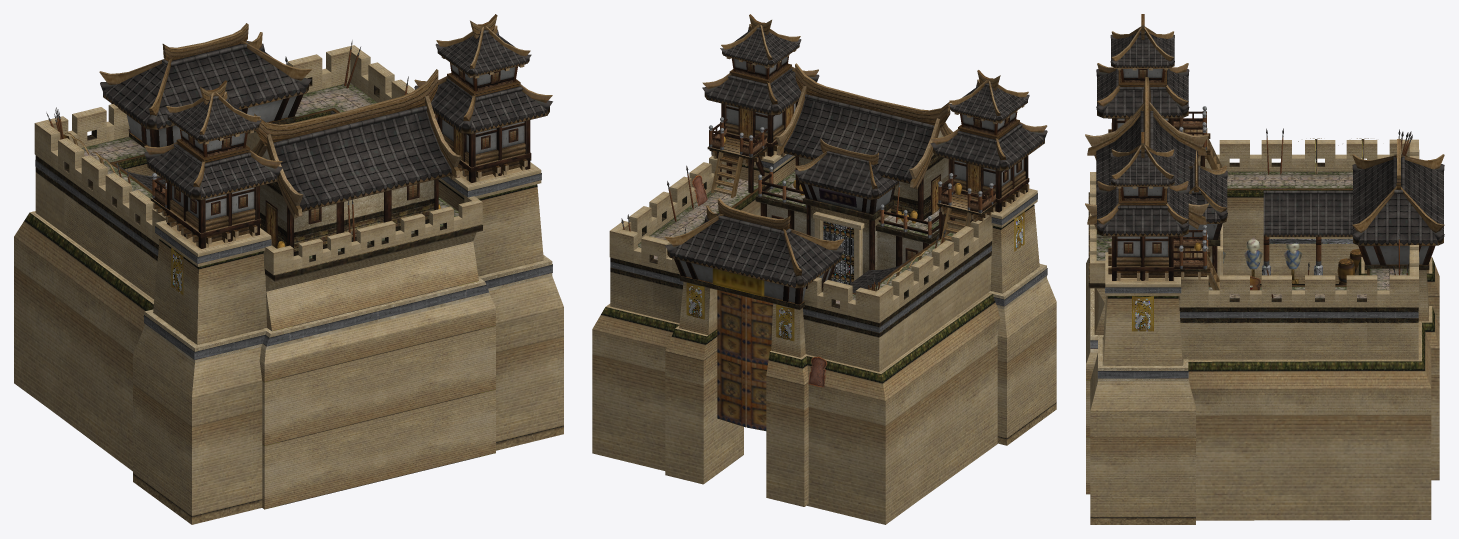
Rendered from han_barracks.glb.
The picture shows the model from 3 angles, left to right: view 1: azimuth 30°, elevation 25°; view 2: azimuth 150°, elevation 25°; view 3: azimuth 270°, elevation 25°; orthographic projection. The views are drawn at different scales.
Parts seen in each view (by area): view 1: han_barracks_part0; view 2: han_barracks_part0; view 3: han_barracks_part0, han_barracks_part2.
Boxes of the visible parts, x1,y1,x2,y2 form: han_barracks_part0: (14, 14, 563, 524); han_barracks_part0: (592, 14, 1056, 524); han_barracks_part0: (1085, 14, 1444, 524); han_barracks_part2: (1223, 237, 1302, 283).
Bounding box in the file's own units: 4 × 4.19 × 3.74.
Materials: 4 (4 with a texture image).
